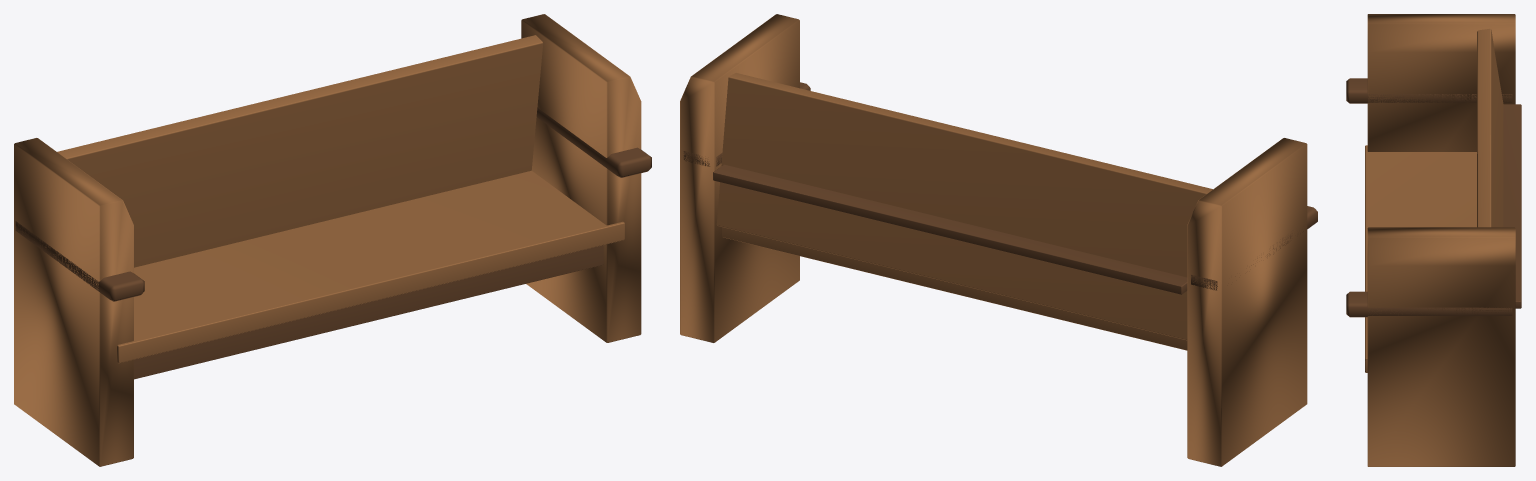
File: S049_church_pew_rebuilt.glb
The picture shows the model from 3 angles, left to right: view 1: azimuth 30°, elevation 25°; view 2: azimuth 150°, elevation 25°; view 3: azimuth 270°, elevation 25°; orthographic projection. The views are drawn at different scales.
Visible parts, largest first — view 1: Oiled_warm_oak, Oak_end_and_edge; view 2: Oiled_warm_oak, Oak_end_and_edge; view 3: Oiled_warm_oak, Oak_end_and_edge.
Boxes of the visible parts, left/top/right/bottom form: Oiled_warm_oak: left=14, top=14, right=641, bottom=466; Oak_end_and_edge: left=15, top=108, right=651, bottom=379; Oiled_warm_oak: left=680, top=14, right=1307, bottom=466; Oak_end_and_edge: left=683, top=82, right=1317, bottom=294; Oiled_warm_oak: left=1365, top=14, right=1515, bottom=466; Oak_end_and_edge: left=1346, top=78, right=1521, bottom=317.
Bounding box in the file's own units: 2.45 × 1.13 × 0.795.
